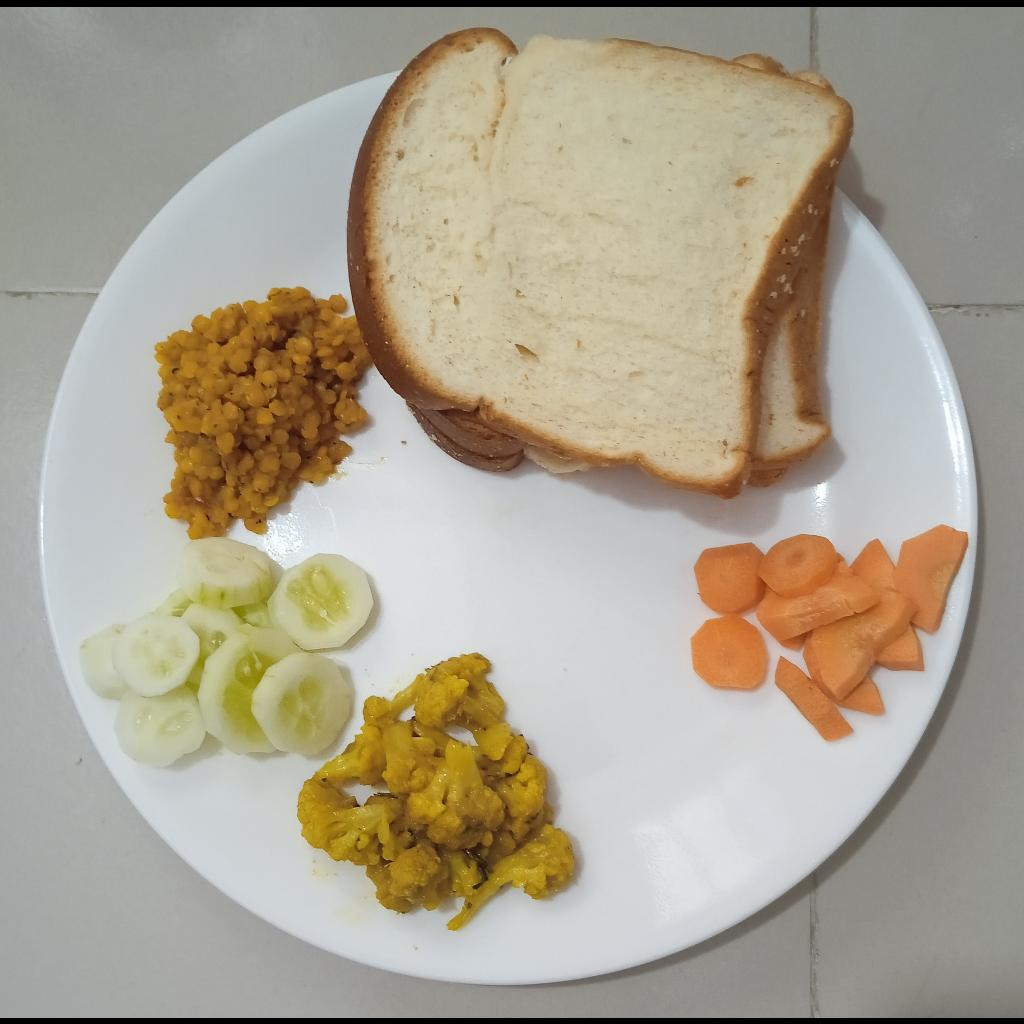bread: (345, 26, 858, 497)
carrot: (691, 522, 970, 741)
cauliflower: (297, 652, 573, 930)
cucumber: (81, 536, 376, 767)
daal: (150, 286, 369, 539)
